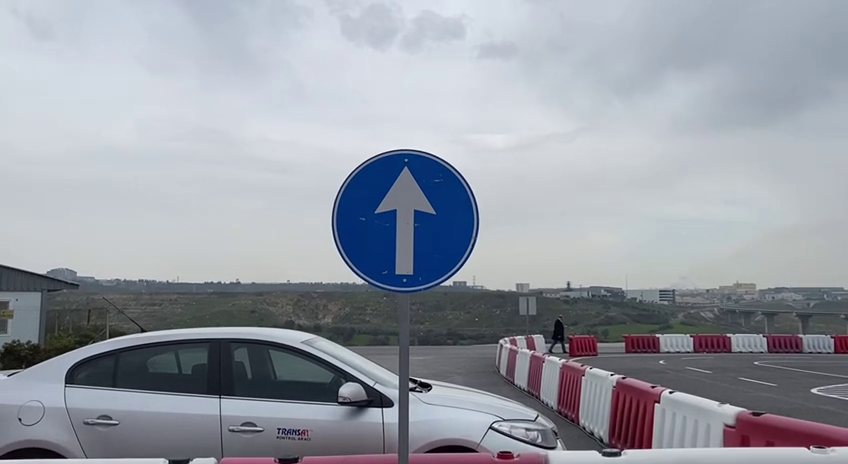forward: (329, 146, 479, 293)
